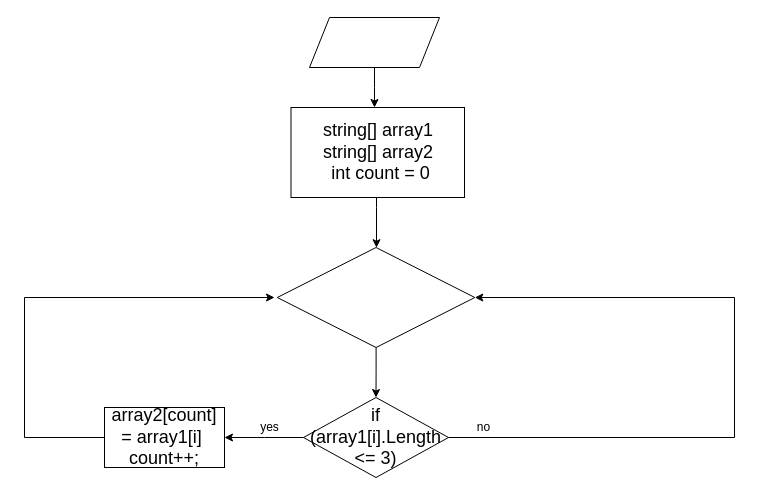
This 760x495 diagram has some shape labels left out. Each missing label, with the box of its shape:
for (int i = 0; i < array1.Length; i++): (276, 246, 475, 348)
void SecondArray: (308, 16, 440, 68)
